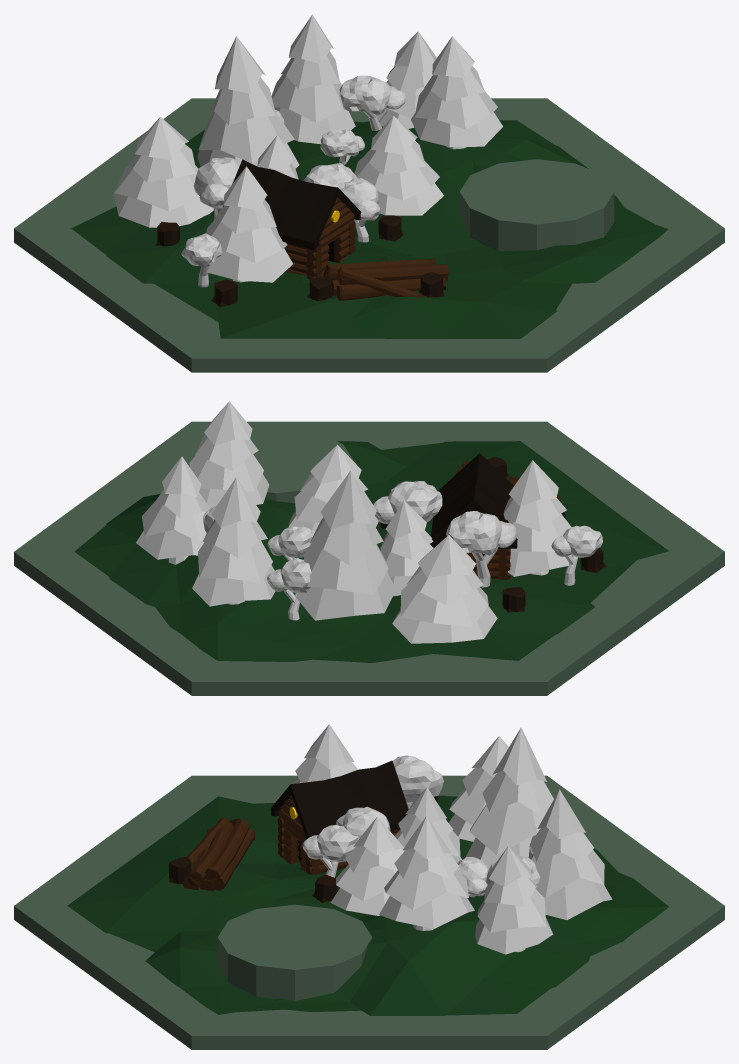
Rendered from trees.obj.
3 renders of one model, top to bottom at view 1: azimuth 30°, elevation 25°; view 2: azimuth 150°, elevation 25°; view 3: azimuth 270°, elevation 25°, orthographic.
Parts seen in each view (by area): view 1: Combined_Cylinder.001; view 2: Combined_Cylinder.001; view 3: Combined_Cylinder.001.
Part boxes in pixels (x1,y1,x2,y2): Combined_Cylinder.001: (14,14,724,372); Combined_Cylinder.001: (14,401,724,695); Combined_Cylinder.001: (14,724,724,1049).
Bounding box in the file's own units: 3.98 × 1.18 × 4.6.
